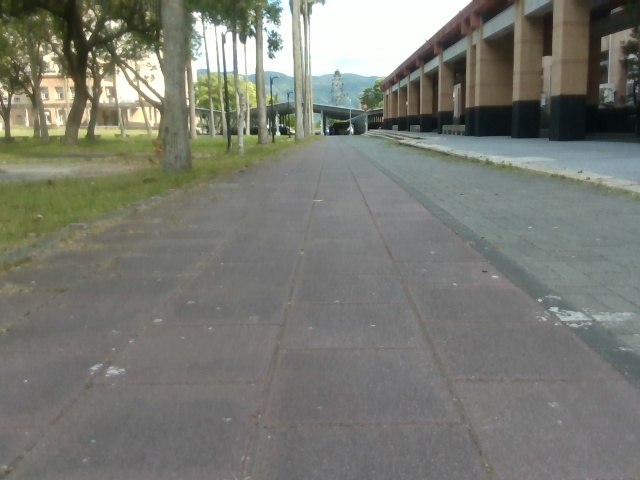grass: (0, 0, 282, 173), (0, 129, 321, 269), (613, 0, 639, 125), (313, 72, 382, 109)
road: (0, 135, 639, 479)
sidewalk: (368, 130, 639, 197)
